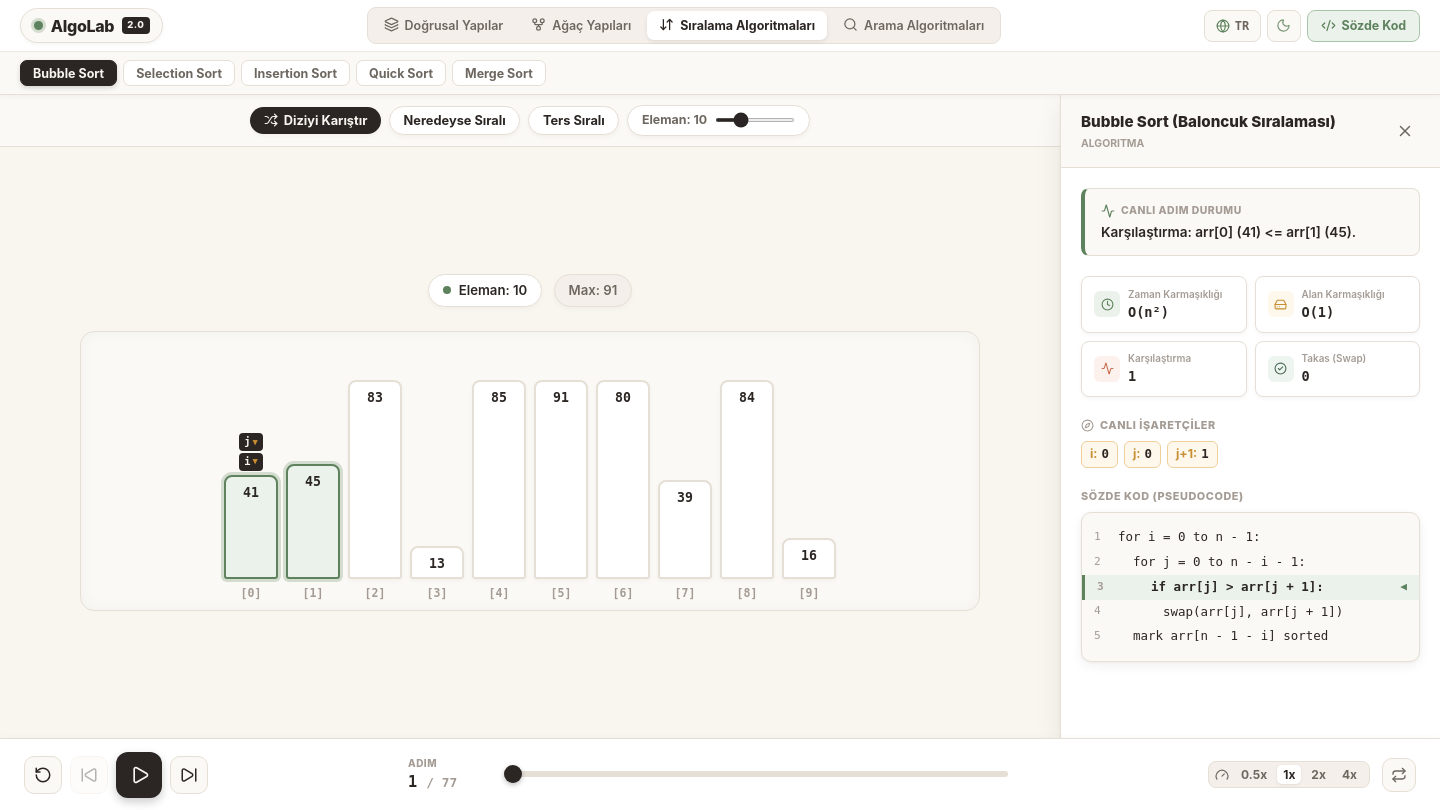
Test: App End-to-End Component & Architectural Integration Tests › 5. Kategori ve Veri Yapısı Geçişleri › Stack seçildiğinde Stack visualizer ve Push/Pop toolbarı görünmeli
Click the button "Doğrusal Yapılar" at (443, 26), box [372,11,515,40]
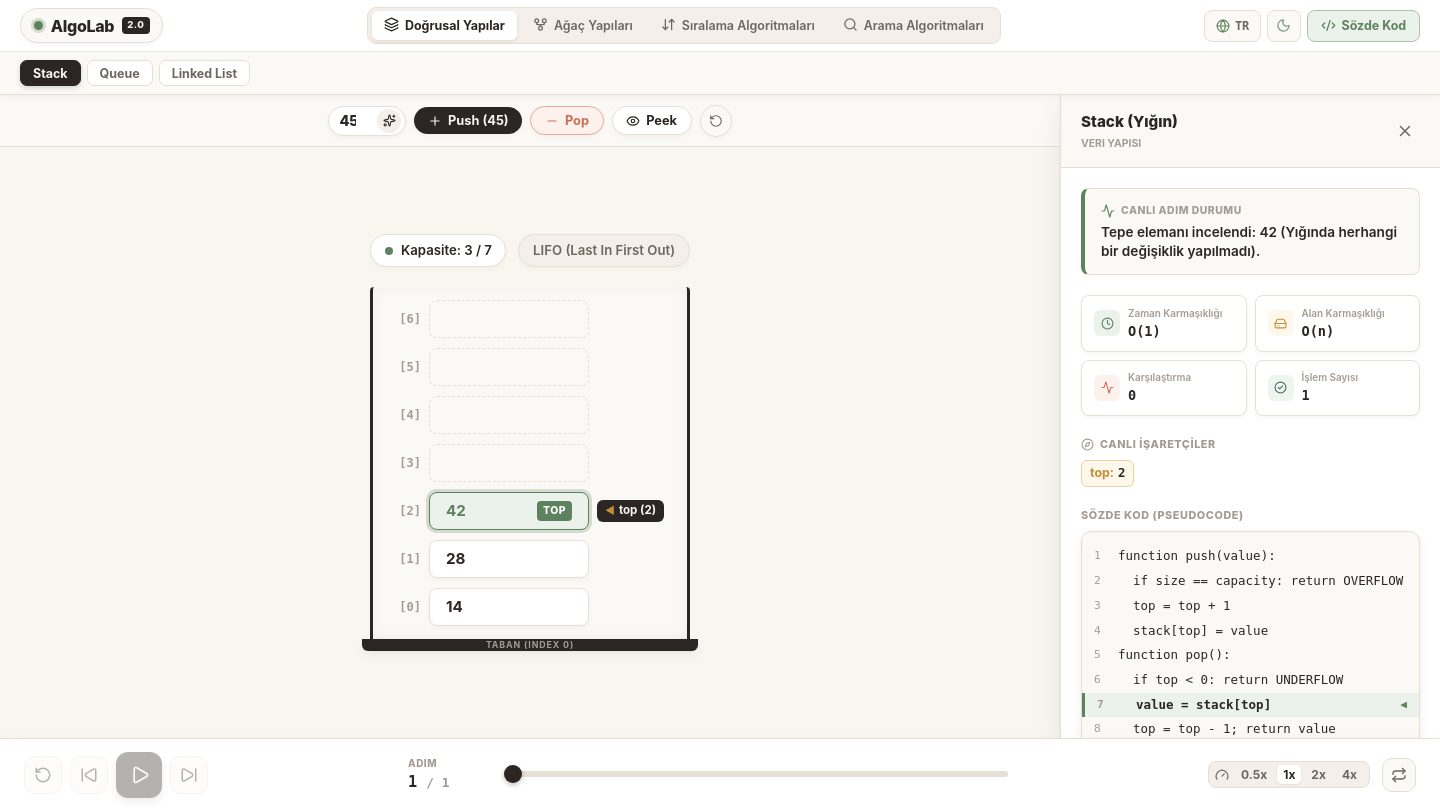
Expected: the text "Push (45)" is shown, [448,113,509,128]
Expected: the text "Pop" is shown, [565,113,589,128]
Expected: the text "LIFO (Last In First Out)" is shown, [533,241,675,260]
